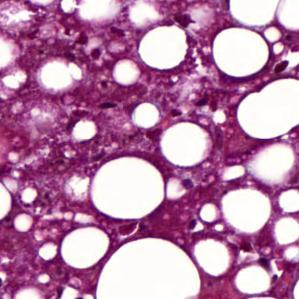steatosis: (96, 238, 200, 299), (89, 154, 166, 220), (212, 27, 270, 79), (59, 227, 111, 270), (140, 25, 189, 70)
